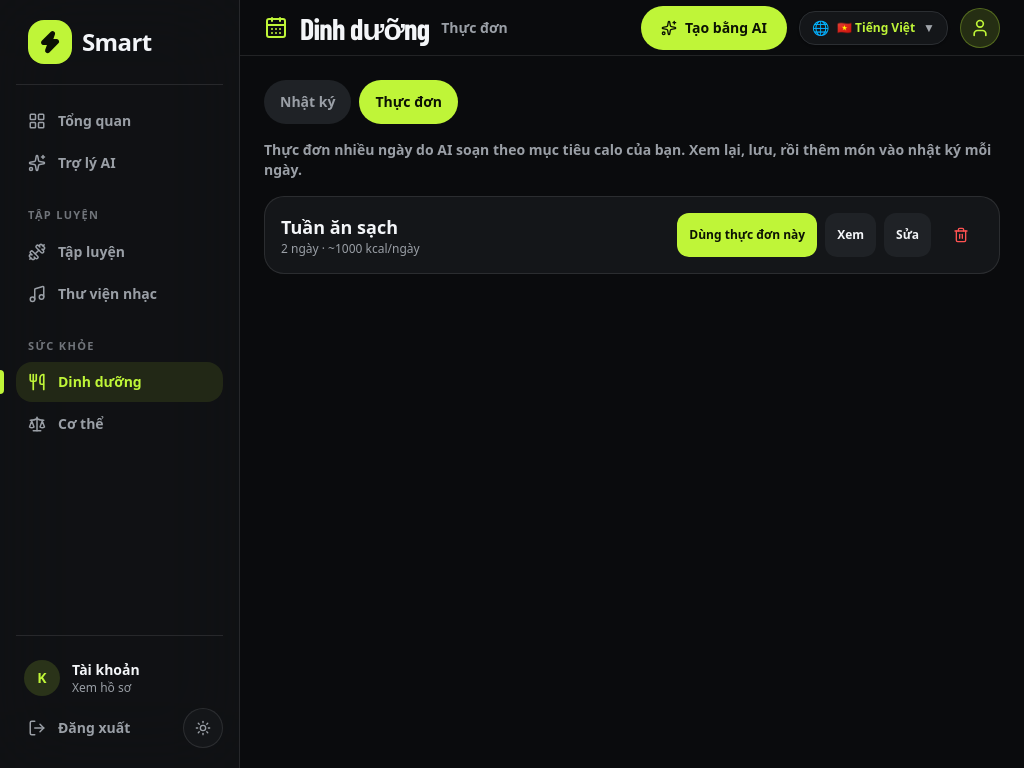
Test: Meal plans: using and deleting › a failed "use" is reported and the profile is not refreshed
Step 1. Click the button "Dùng thực đơn này" → (747, 235), box [677,213,817,257]
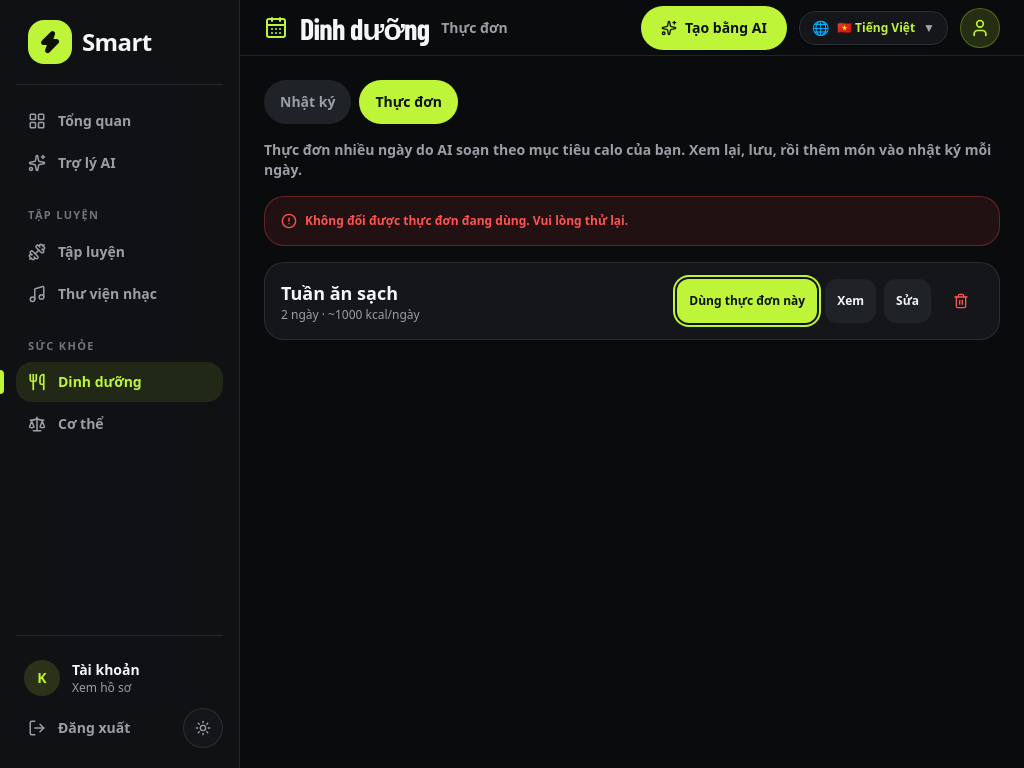
Check: the message shows "Không đổi được", box [305,212,628,229]
